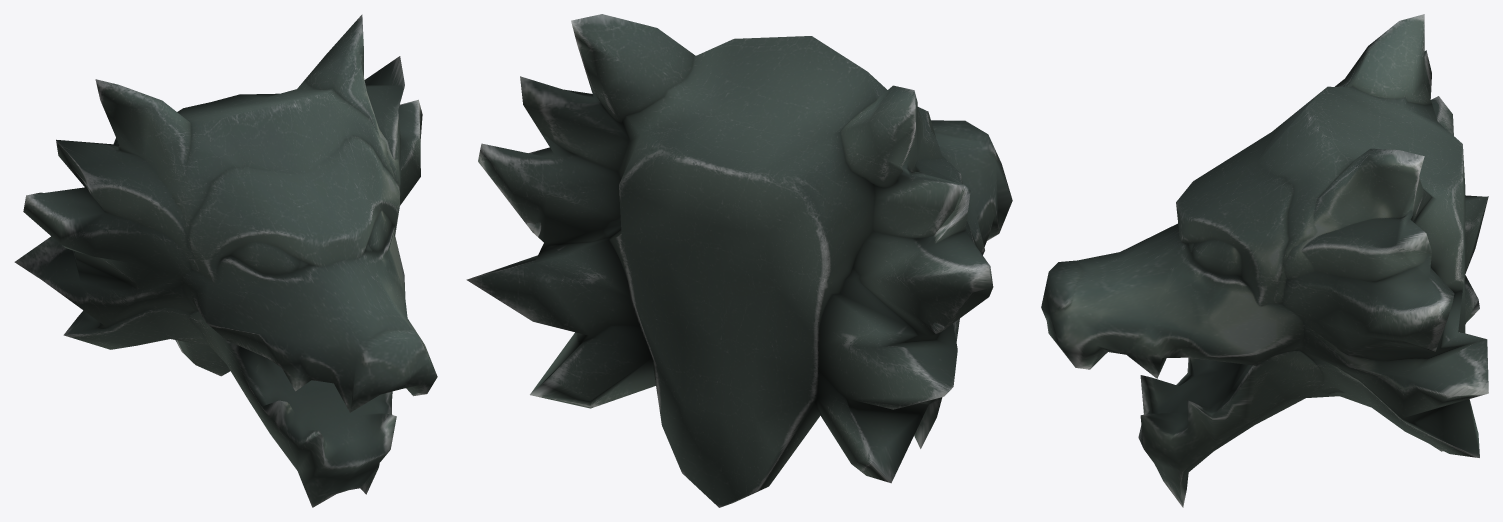
The model's file is wolf_noeye.fbx.
The picture shows the model from 3 angles, left to right: view 1: azimuth 30°, elevation 25°; view 2: azimuth 150°, elevation 25°; view 3: azimuth 270°, elevation 25°; orthographic projection. The views are drawn at different scales.
Visible parts, largest first — view 1: polySurface1; view 2: polySurface1; view 3: polySurface1.
Part boxes in pixels (box(x1,y1,x2,y2)): polySurface1: box(14, 14, 437, 507); polySurface1: box(466, 14, 1012, 507); polySurface1: box(1041, 14, 1488, 507).
Bounding box in the file's own units: 0.1005 × 0.09 × 0.0894.
Materials: 1 (1 with a texture image).
